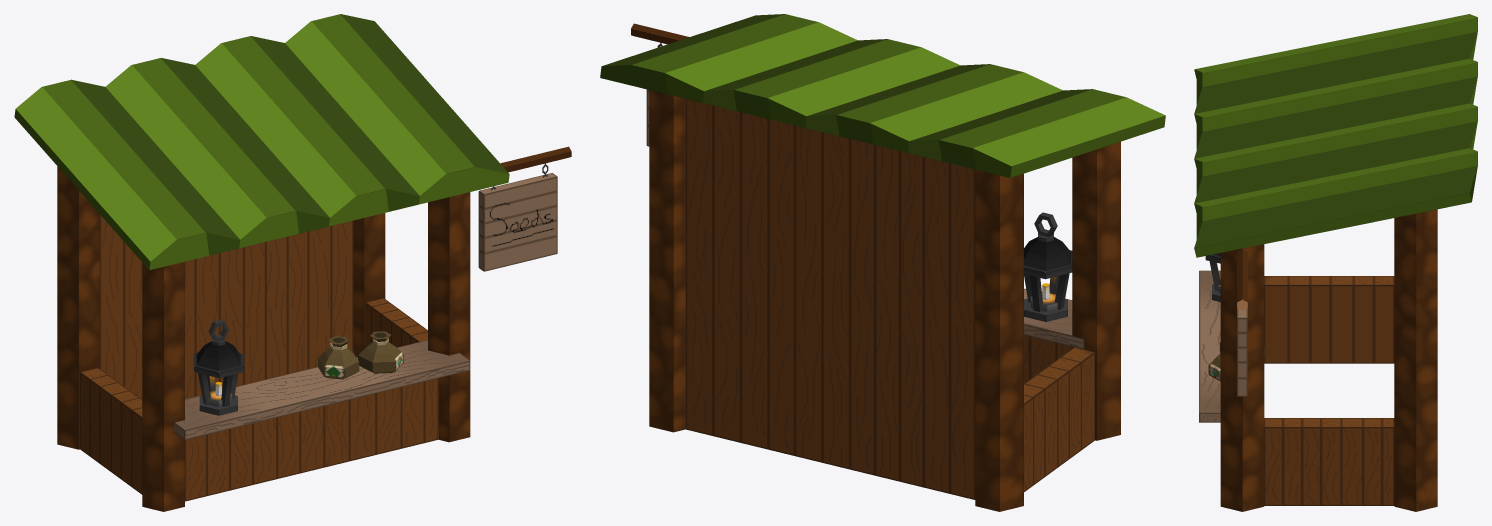
File: shop for seeds.fbx
The picture shows the model from 3 angles, left to right: view 1: azimuth 30°, elevation 25°; view 2: azimuth 150°, elevation 25°; view 3: azimuth 270°, elevation 25°; orthographic projection. The views are drawn at different scales.
Visible parts, largest first — view 1: ShopSeed; view 2: ShopSeed; view 3: ShopSeed.
Part boxes in pixels (box(x1,y1,x2,y2)): ShopSeed: box(14, 14, 571, 511); ShopSeed: box(600, 14, 1165, 511); ShopSeed: box(1194, 14, 1477, 511).
Bounding box in the file's own units: 300 × 215 × 163.
2 materials, 2 textured.
